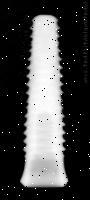Cowellmedi: (12, 14, 68, 189)
